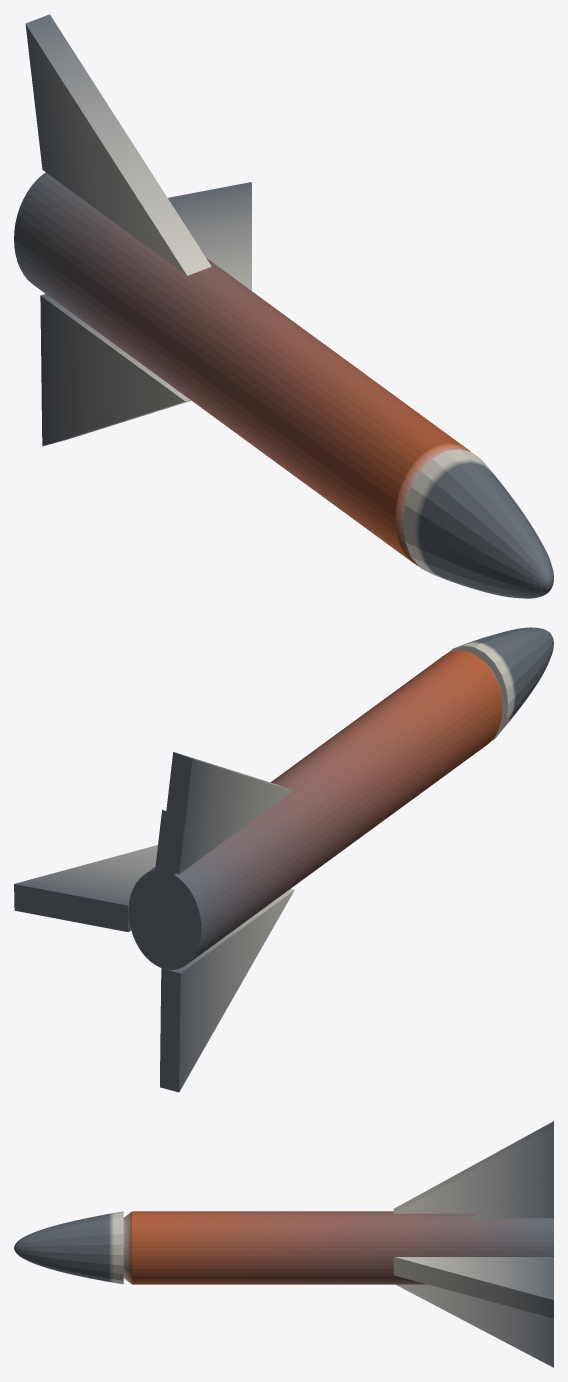
The model's file is cohete.glb.
3 views of the same model, one above another, from view 1: azimuth 30°, elevation 25°; view 2: azimuth 150°, elevation 25°; view 3: azimuth 270°, elevation 25° (orthographic). The views are drawn at different scales.
Size of the model in its own units: 7.92 by 13.69 by 28.16.
